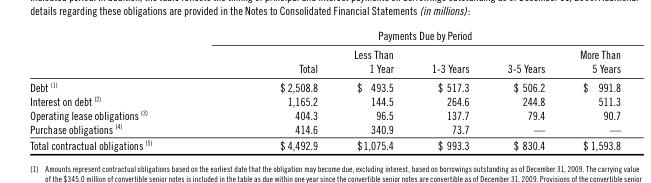table: (29, 28, 620, 151)
table column: (29, 28, 215, 151), (215, 28, 335, 151), (335, 28, 411, 151), (411, 28, 487, 151), (487, 28, 561, 151), (561, 28, 620, 151)
table column header: (29, 28, 620, 77)
table row: (29, 44, 620, 77), (29, 28, 620, 44), (29, 77, 620, 93), (29, 121, 620, 136), (29, 136, 620, 151), (29, 93, 620, 107), (29, 107, 620, 121)
table spanning cell: (215, 28, 620, 44)
